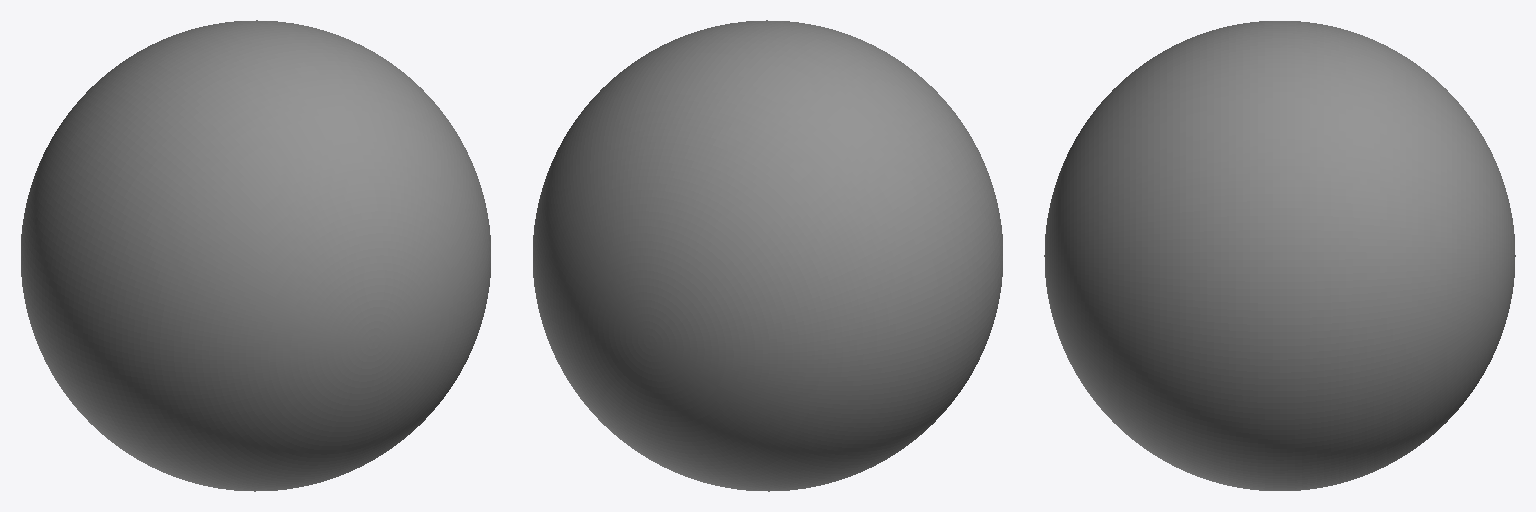
The model's file is earth.obj.
3 views of the same model, side by side, from view 1: azimuth 30°, elevation 25°; view 2: azimuth 150°, elevation 25°; view 3: azimuth 270°, elevation 25° (orthographic).
Parts seen in each view (by area): view 1: earth; view 2: earth; view 3: earth.
Boxes of the visible parts, <box> form: earth: <box>21,20,490,491</box>; earth: <box>533,20,1002,491</box>; earth: <box>1044,21,1515,490</box>.
Bounding box in the file's own units: 1.9 × 1.9 × 1.9.